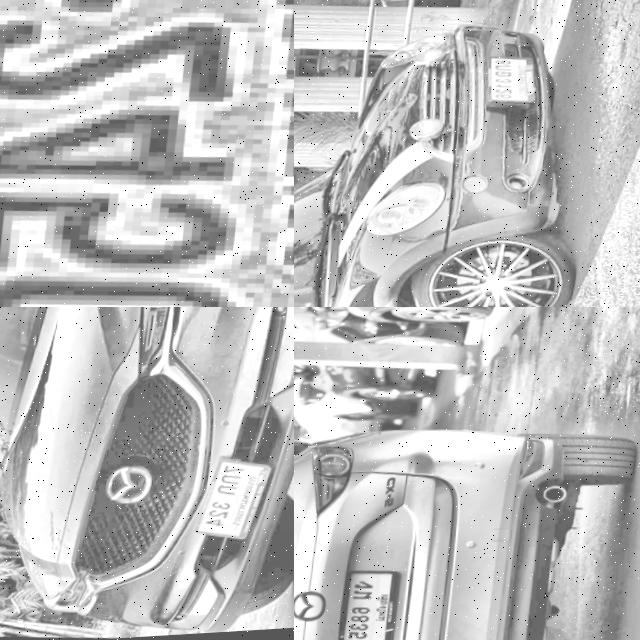license-plate: (0, 0, 294, 307), (197, 458, 277, 548), (332, 569, 410, 640), (478, 52, 550, 118)
